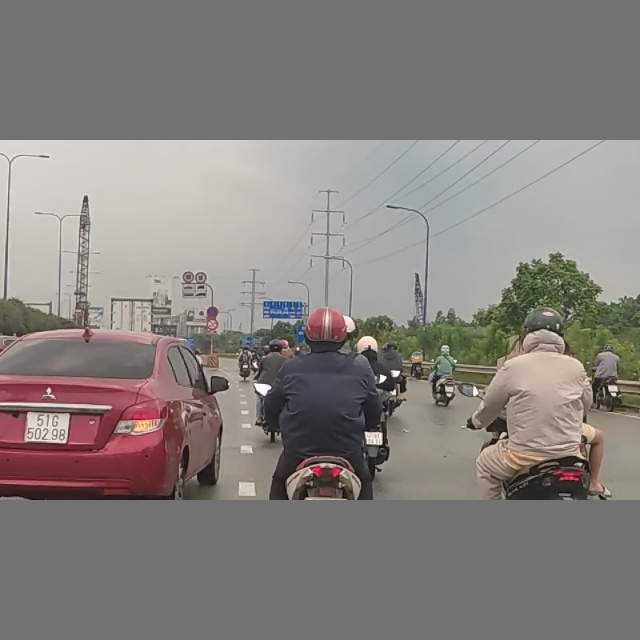P.130: (206, 306, 219, 318)
